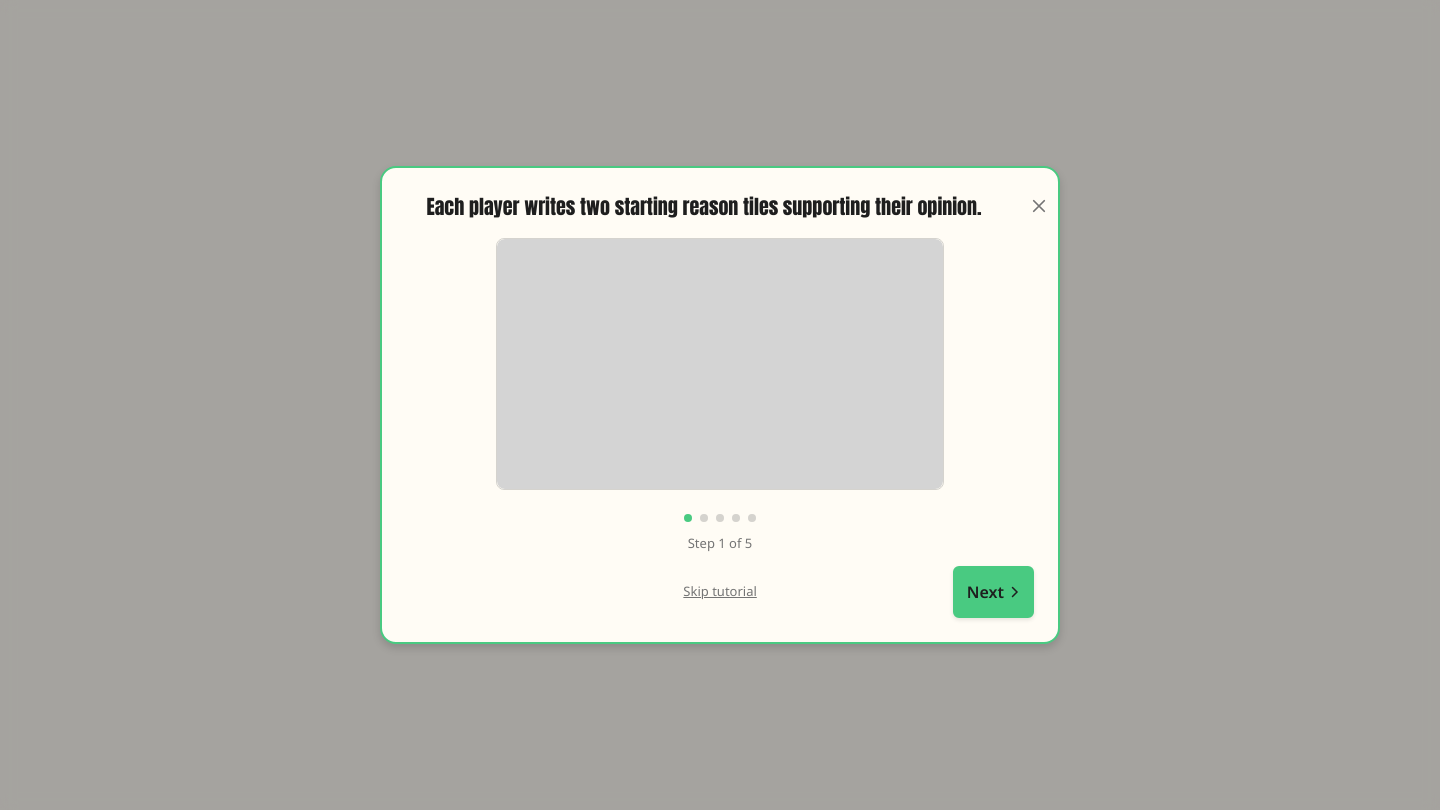
Test: OnboardingOverlay: step three token legend › lists what each resolution token means
Click the button named "Go to step 3": point(720, 518) [716,514,724,522]
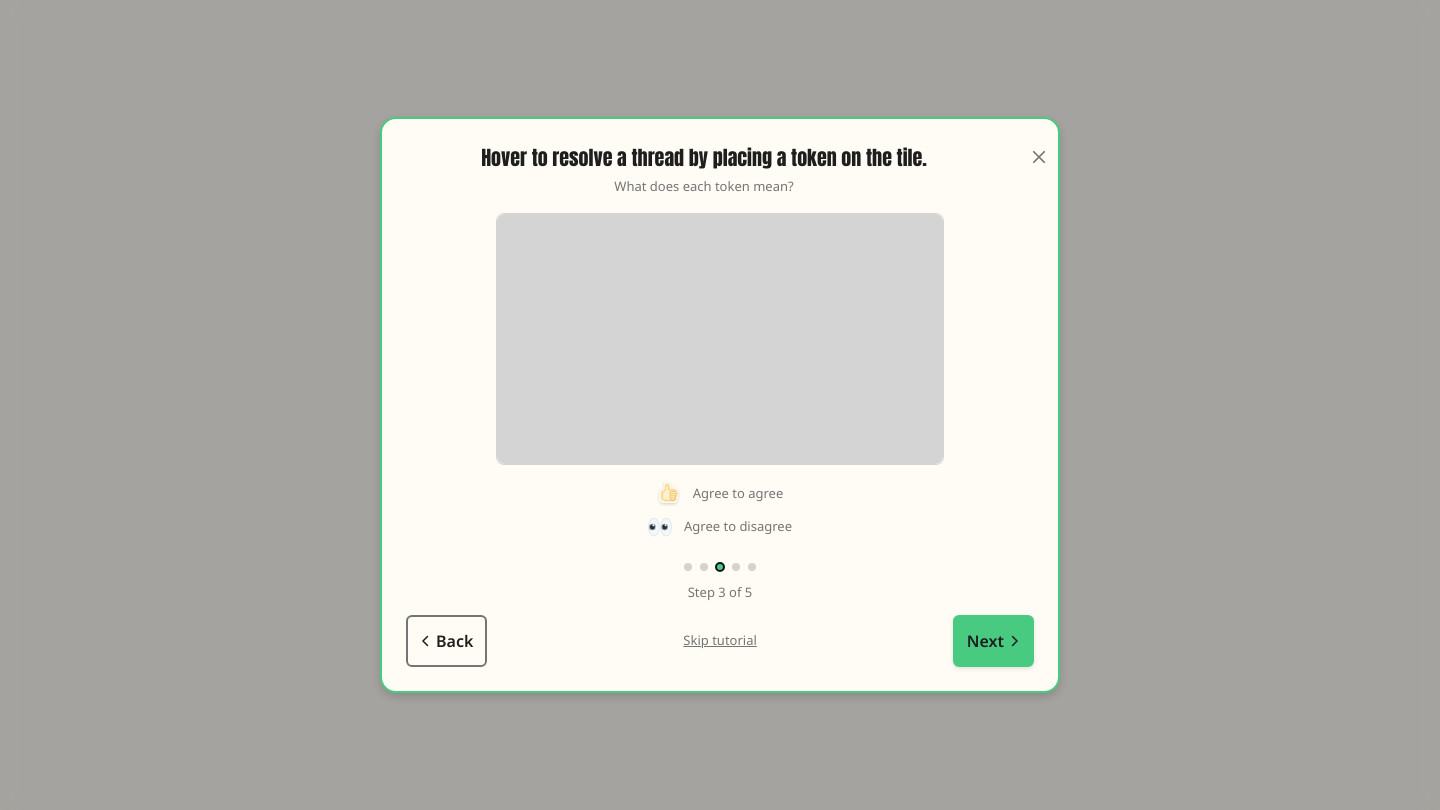
Expected: the text "Agree to agree" is shown, [693,484,783,504]
Expected: the text "Agree to disagree" is shown, [684,517,792,537]
